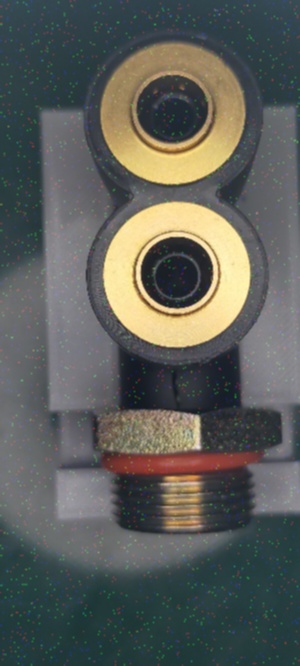craze: (164, 365, 191, 414)
